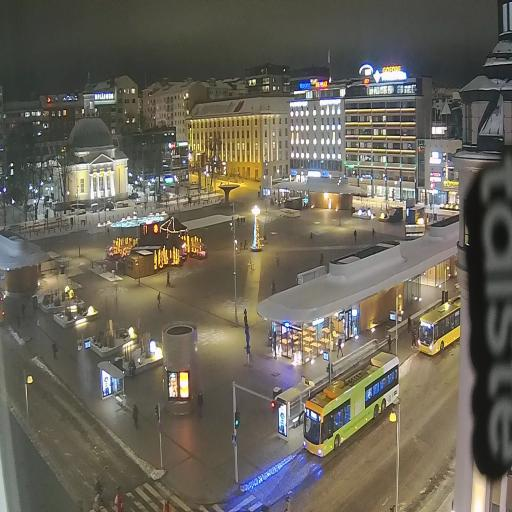Bus: (303, 352, 401, 457), (416, 296, 460, 355)
